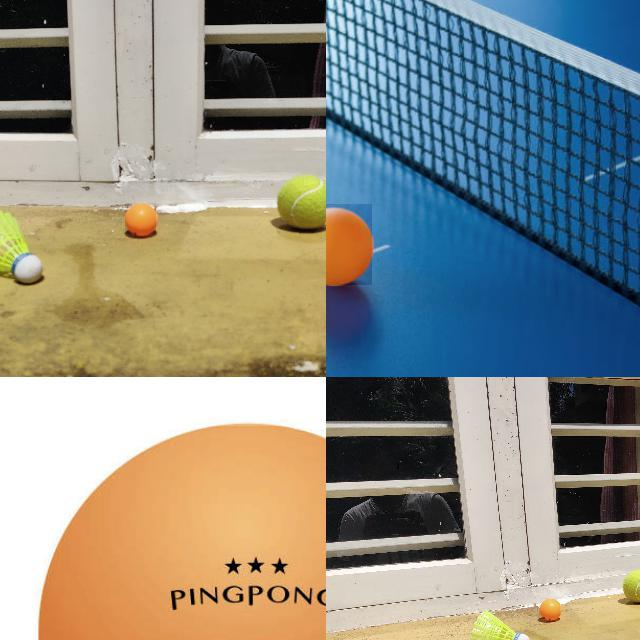ping-pong-ball: (36, 426, 325, 639), (326, 204, 373, 287), (124, 203, 158, 235), (539, 598, 561, 620)
